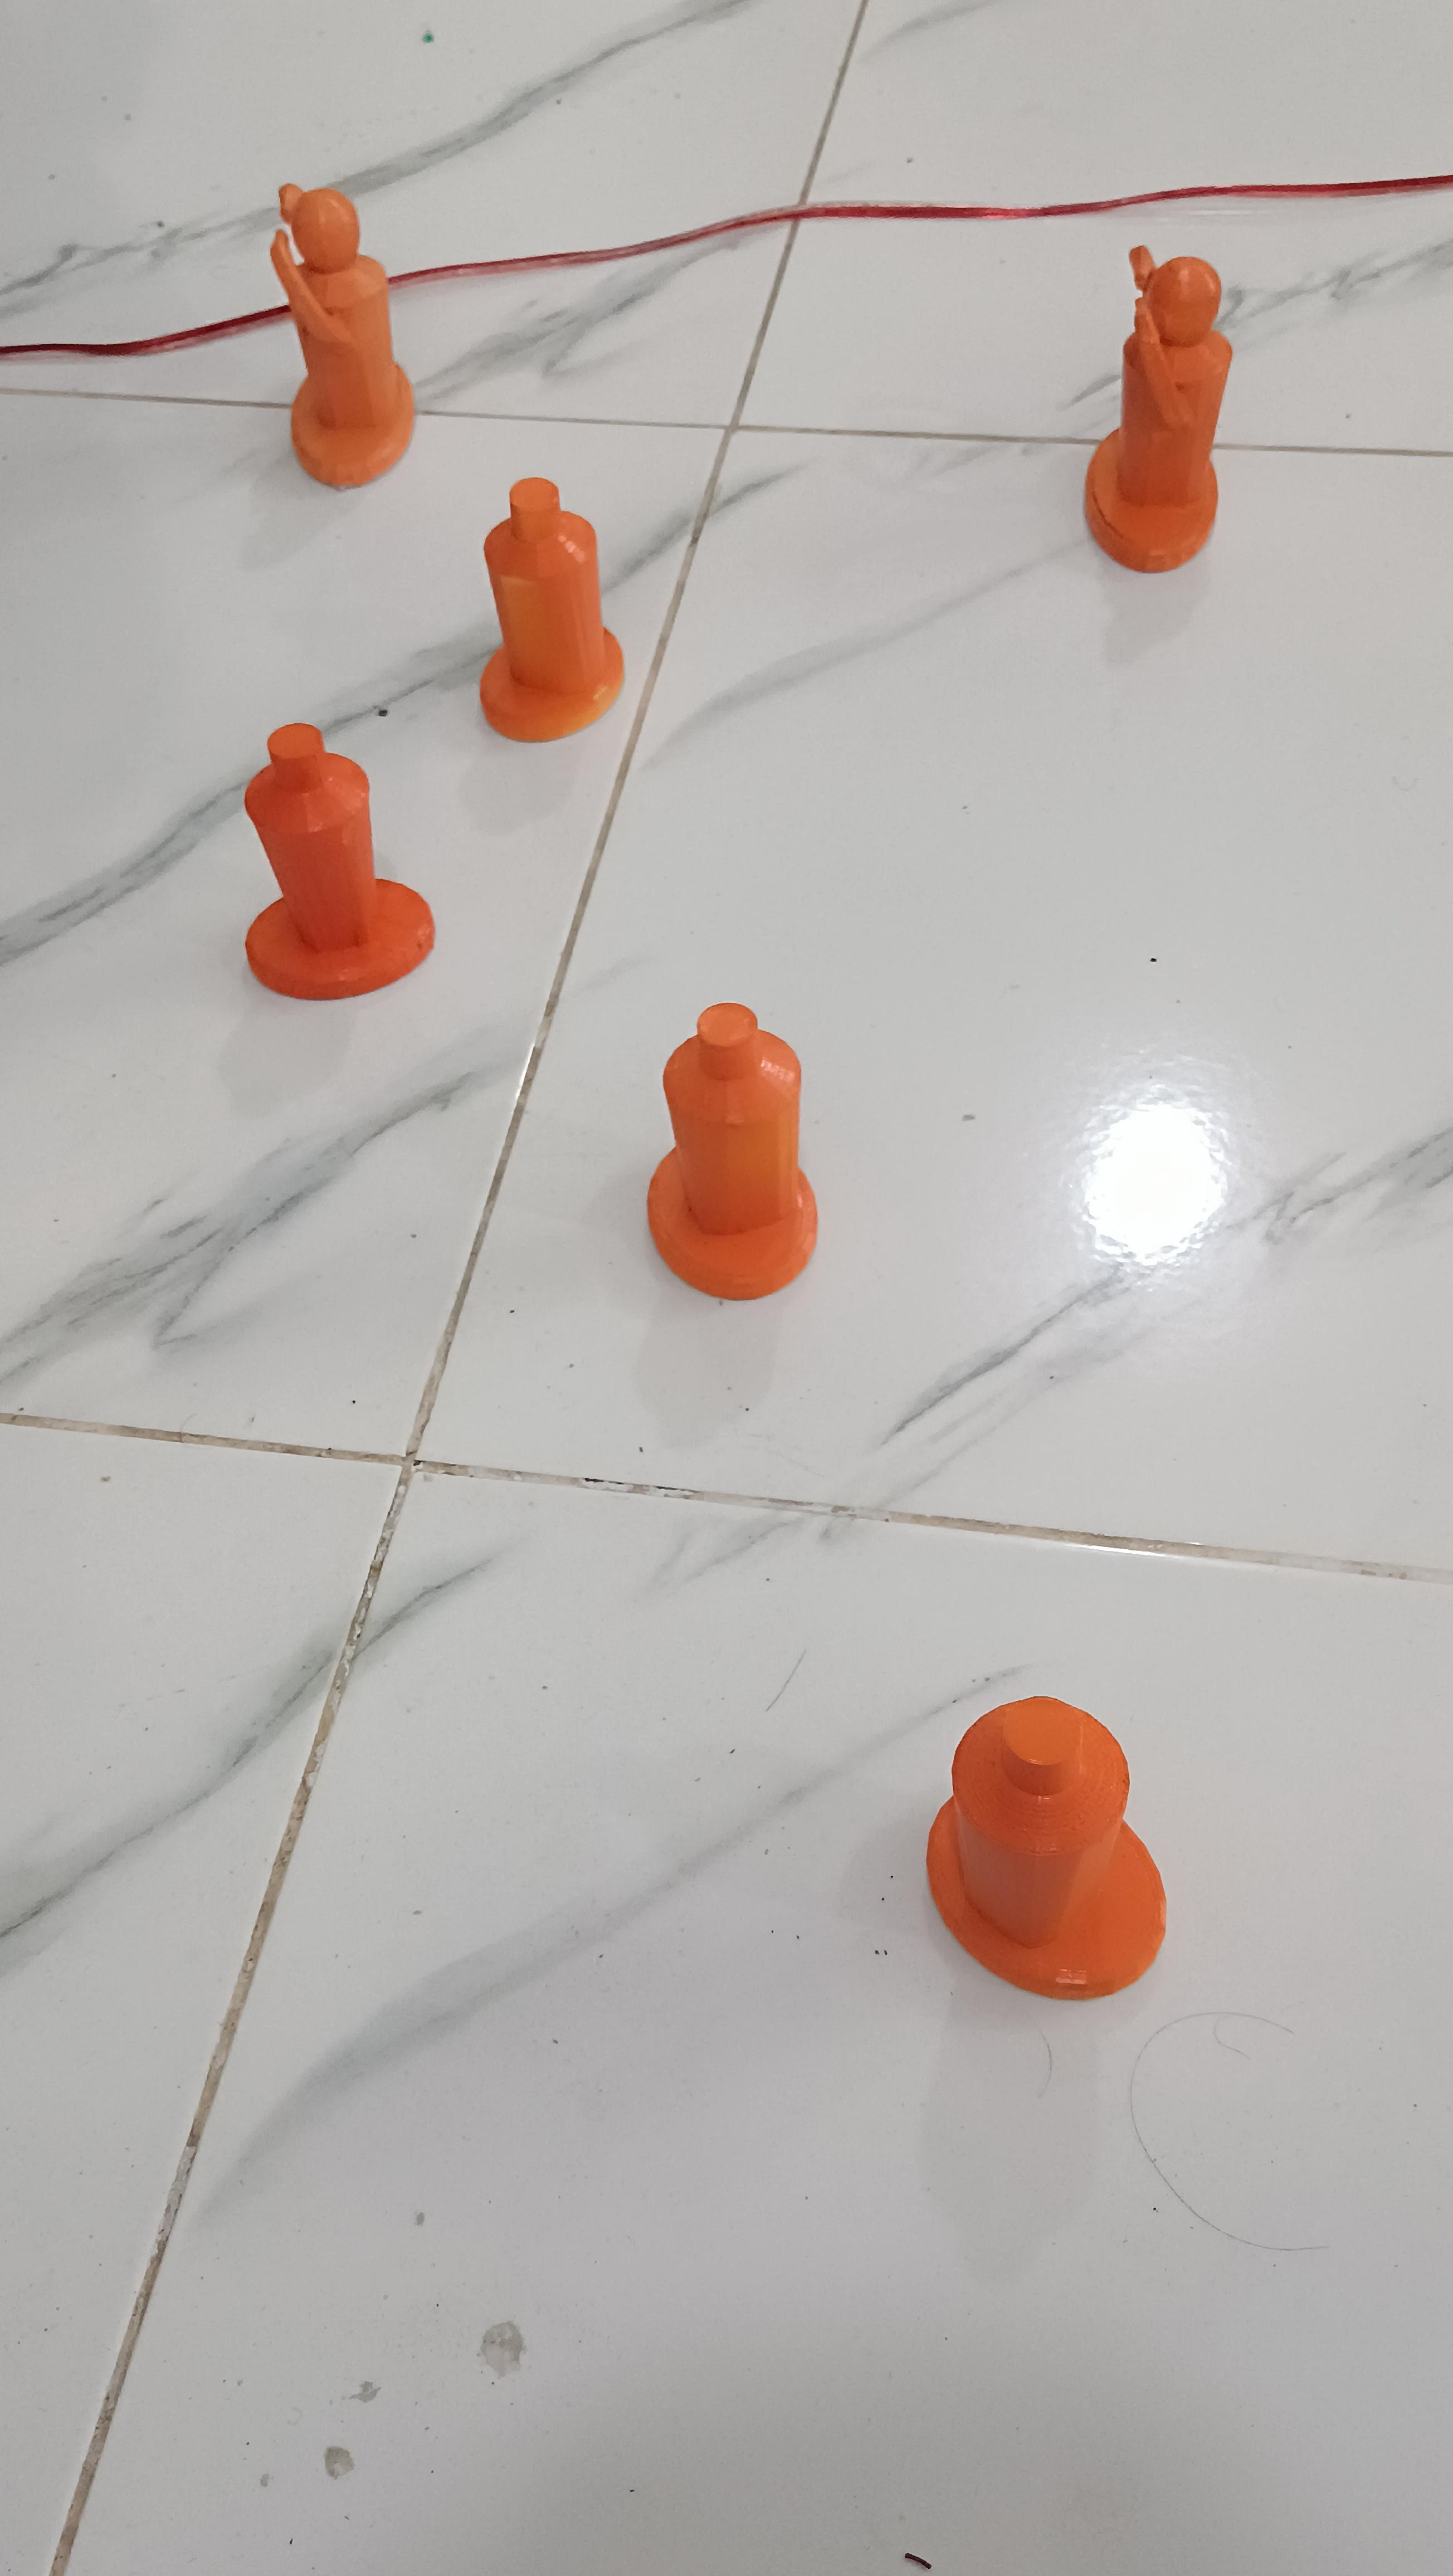dummy: (886, 1641, 1186, 2049), (618, 967, 842, 1323), (206, 716, 439, 1007), (460, 471, 647, 755)
real_person: (1065, 226, 1247, 599), (231, 164, 429, 495)
